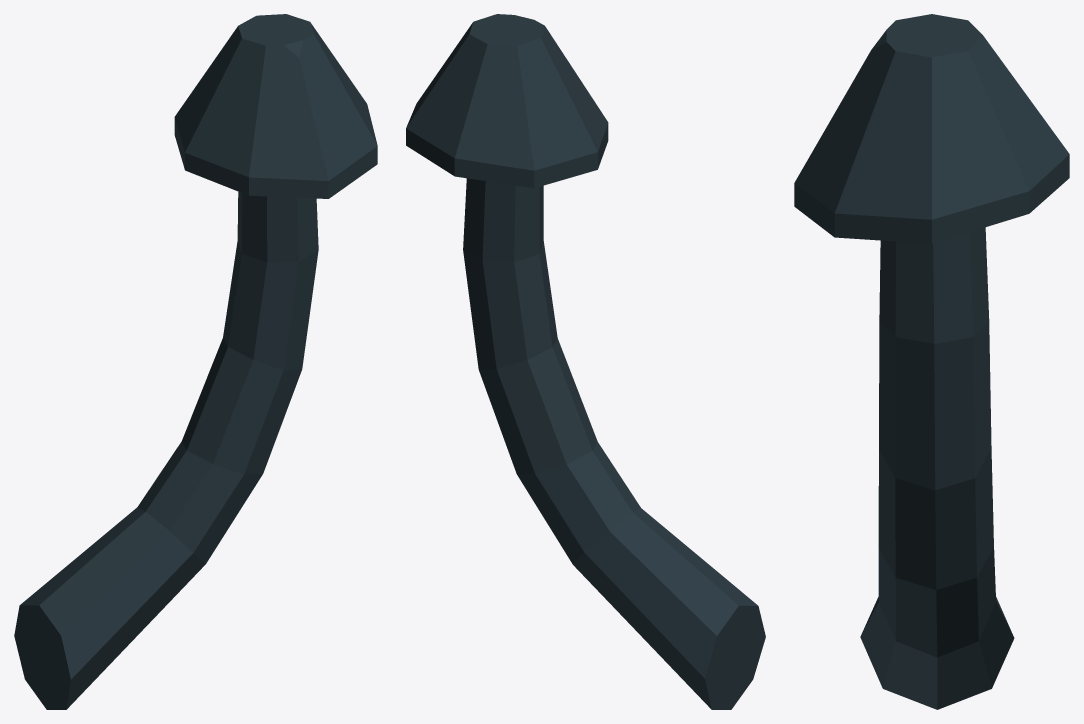
File: Chimney 10.fbx
The picture shows the model from 3 angles, left to right: view 1: azimuth 30°, elevation 25°; view 2: azimuth 150°, elevation 25°; view 3: azimuth 270°, elevation 25°; orthographic projection. The views are drawn at different scales.
Parts seen in each view (by area): view 1: Chimney 10; view 2: Chimney 10; view 3: Chimney 10.
Part boxes in pixels (left/top/right/bottom): Chimney 10: left=14, top=14, right=377, bottom=709; Chimney 10: left=406, top=14, right=765, bottom=709; Chimney 10: left=794, top=14, right=1069, bottom=709.
Size of the model in its own units: 189 by 347 by 106.
